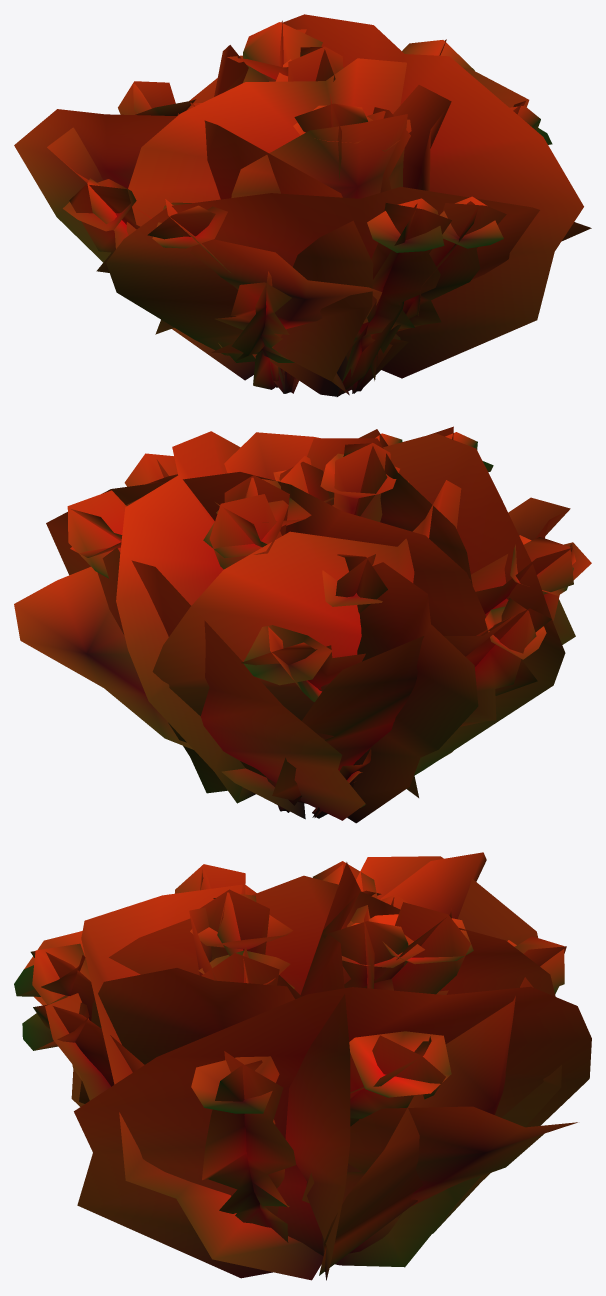
File: RabbitBushRHEP_B.fbx
3 views of the same model, one above another, from view 1: azimuth 30°, elevation 25°; view 2: azimuth 150°, elevation 25°; view 3: azimuth 270°, elevation 25° (orthographic). The views are drawn at different scales.
Parts seen in each view (by area): view 1: RabbitBushRHEPB_LOD0; view 2: RabbitBushRHEPB_LOD0; view 3: RabbitBushRHEPB_LOD0.
Boxes of the visible parts, left/top/right/bottom form: RabbitBushRHEPB_LOD0: left=14, top=14, right=591, bottom=396; RabbitBushRHEPB_LOD0: left=14, top=426, right=591, bottom=823; RabbitBushRHEPB_LOD0: left=14, top=852, right=591, bottom=1280.
Size of what is drawn, in the model's own units: 1.95 by 1.26 by 1.85.
